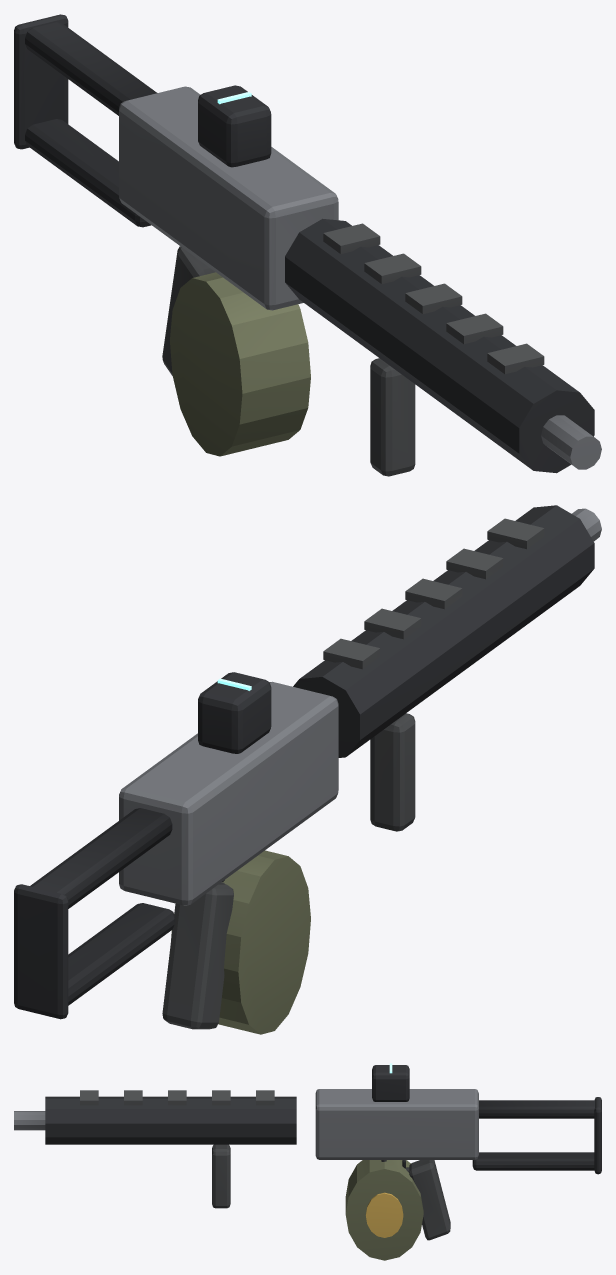
File: hailstorm_mg.glb
3 views of the same model, one above another, from view 1: azimuth 30°, elevation 25°; view 2: azimuth 150°, elevation 25°; view 3: azimuth 270°, elevation 25° (orthographic). The views are drawn at different scales.
Parts seen in each view (by area): view 1: hailstorm_mg, mag; view 2: hailstorm_mg, mag; view 3: hailstorm_mg, mag.
Boxes of the visible parts, left/top/right/bottom form: hailstorm_mg: left=14, top=14, right=601, bottom=476; mag: left=170, top=272, right=310, bottom=456; hailstorm_mg: left=14, top=505, right=601, bottom=1029; mag: left=171, top=850, right=310, bottom=1034; hailstorm_mg: left=14, top=1063, right=601, bottom=1240; mag: left=345, top=1160, right=423, bottom=1260.
Bounding box in the file's own units: 0.0748 × 0.3237 × 0.936.
